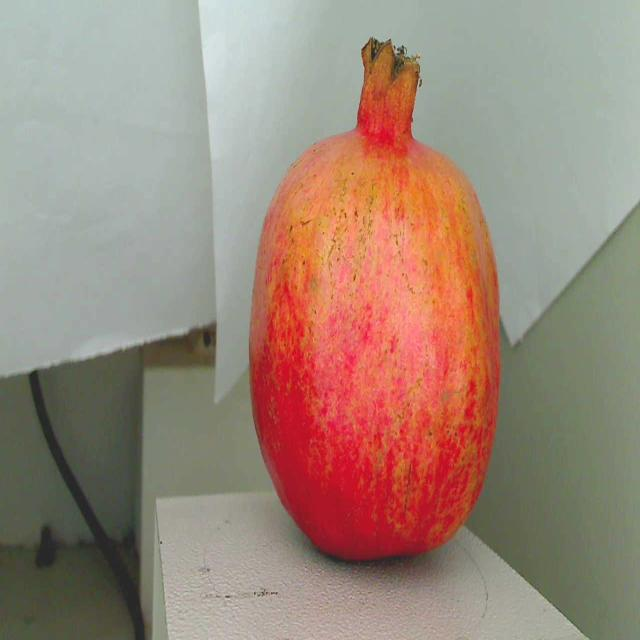pomegranate: (246, 29, 512, 579)
